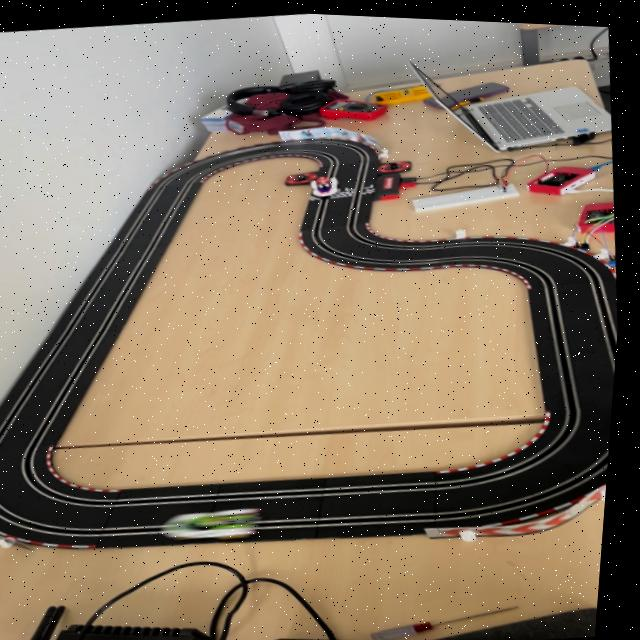mario: (310, 170, 344, 196)
yoshi: (166, 497, 279, 546)
